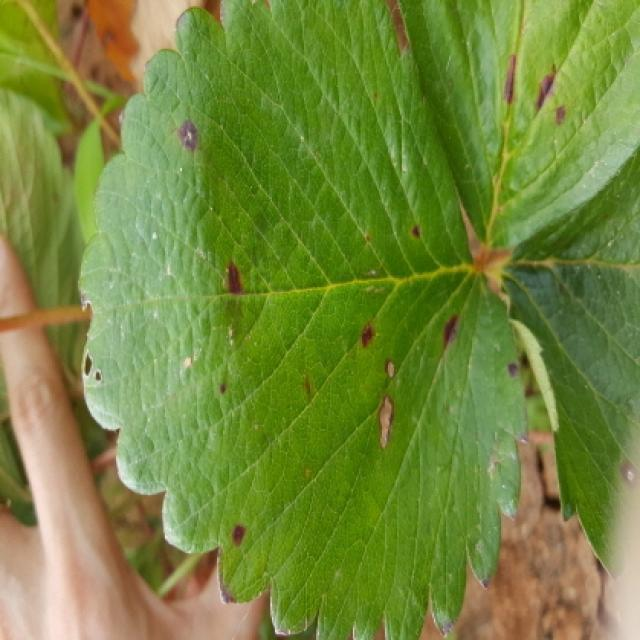Leaf Spot: (78, 0, 532, 638), (491, 145, 638, 584), (396, 0, 638, 248)
